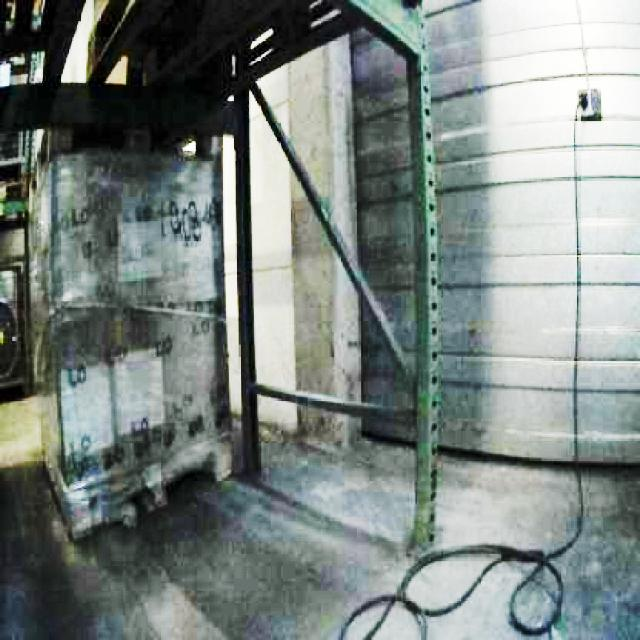ground: (0, 391, 638, 638)
pallet: (26, 134, 235, 540), (0, 125, 32, 414)
